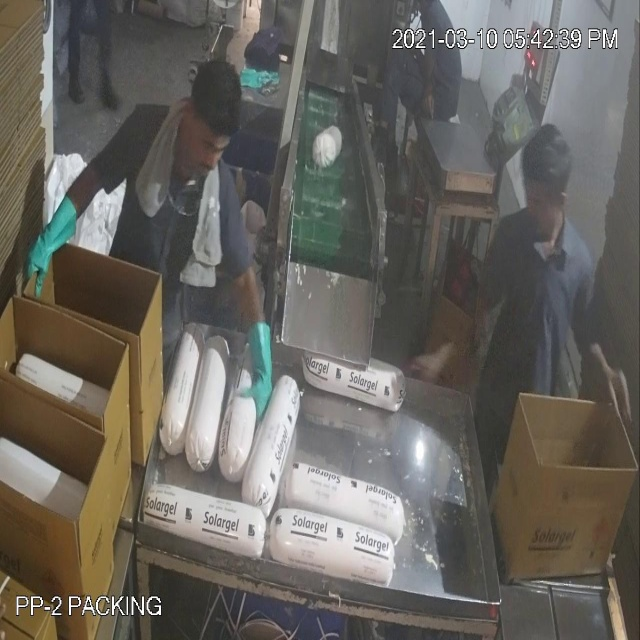Guantes: (16, 185, 86, 322), (241, 313, 277, 436)
Sin_guantes: (394, 291, 511, 433), (572, 320, 639, 430)
